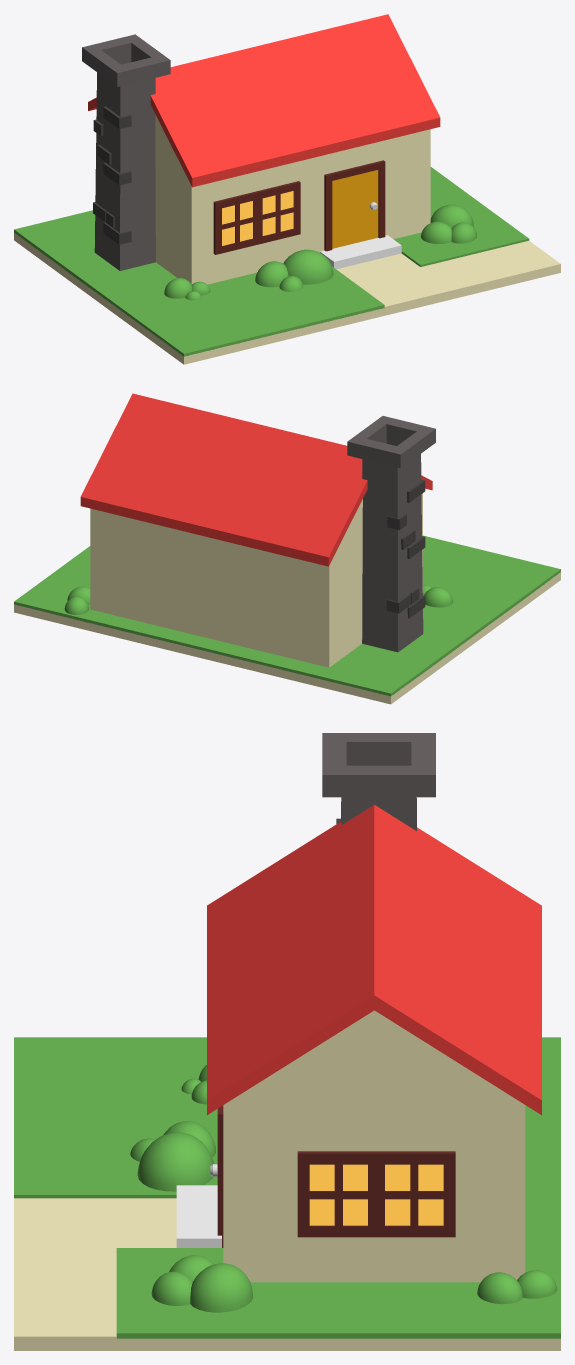
Rendered from small house.glb.
The picture shows the model from 3 angles, top to bottom: view 1: azimuth 30°, elevation 25°; view 2: azimuth 150°, elevation 25°; view 3: azimuth 270°, elevation 25°; orthographic projection. The views are drawn at different scales.
Parts seen in each view (by area): view 1: Cube.003, Plane.007, Cube.002, Cube.005, Plane.005, Plane.008, Plane.003, Plane.006, Plant 1, Plane.004, Plant 2, Cube.004 (+1 smaller); view 2: Cube.003, Cube.002, Plane.007, Cube.005, Plane.003, Plant 4, Plant 3; view 3: Cube.003, Plane.007, Cube.002, Plane.005, Plane.009, Cube.005, Plane.003, Plant 1, Plant 2, Cube.004, Plant 4, Plane.004.
Boxes of the visible parts, left/top/right/bottom form: Cube.003: left=88, top=14, right=440, bottom=187; Plane.007: left=14, top=167, right=529, bottom=356; Cube.002: left=155, top=114, right=430, bottom=284; Cube.005: left=82, top=34, right=170, bottom=270; Plane.005: left=336, top=240, right=560, bottom=307; Plane.008: left=213, top=181, right=300, bottom=254; Plane.003: left=14, top=233, right=560, bottom=364; Plane.006: left=332, top=170, right=378, bottom=248; Plant 1: left=255, top=249, right=333, bottom=291; Plane.004: left=324, top=160, right=385, bottom=251; Plant 2: left=420, top=204, right=476, bottom=243; Cube.004: left=320, top=235, right=401, bottom=269; Cube.003: left=80, top=393, right=432, bottom=566; Cube.002: left=90, top=493, right=422, bottom=667; Plane.007: left=14, top=535, right=560, bottom=696; Cube.005: left=347, top=416, right=435, bottom=652; Plane.003: left=14, top=572, right=560, bottom=704; Plant 4: left=64, top=586, right=90, bottom=614; Plant 3: left=423, top=584, right=452, bottom=607; Cube.003: left=207, top=805, right=541, bottom=1115; Plane.007: left=14, top=1037, right=560, bottom=1338; Cube.002: left=223, top=1010, right=525, bottom=1282; Plane.005: left=14, top=1198, right=176, bottom=1337; Plane.009: left=297, top=1151, right=455, bottom=1237; Cube.005: left=322, top=733, right=435, bottom=830; Plane.003: left=14, top=1253, right=560, bottom=1350; Plant 1: left=130, top=1121, right=215, bottom=1191; Plant 2: left=151, top=1255, right=252, bottom=1312; Cube.004: left=176, top=1185, right=221, bottom=1247; Plant 4: left=477, top=1270, right=557, bottom=1304; Plane.004: left=217, top=1105, right=223, bottom=1247.
Bounding box in the file's own units: 4.07 × 2.21 × 3.18.
